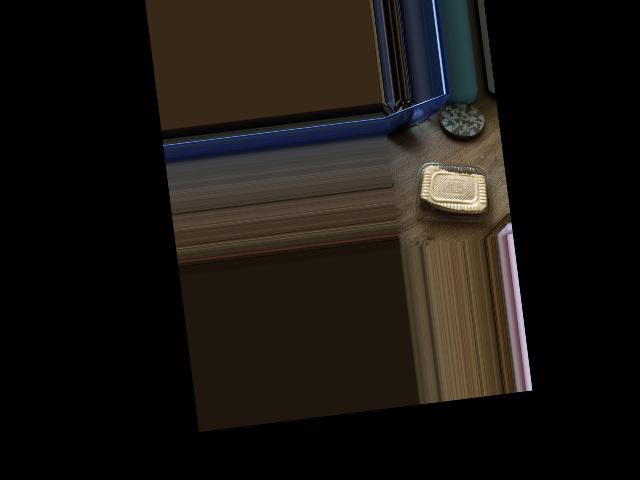cheese: (416, 149, 506, 246)
